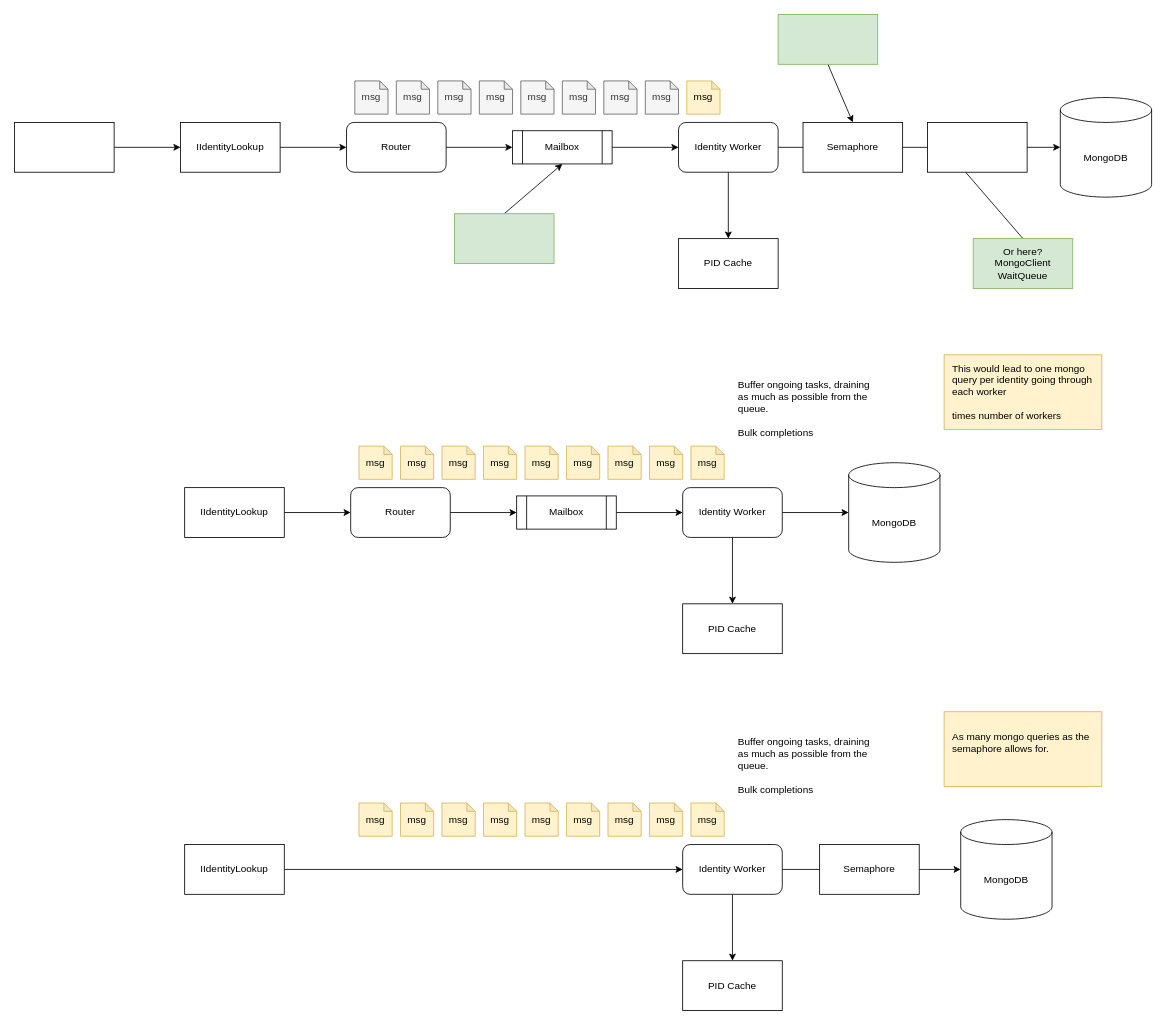
Some shapes in this 1166 by 1025 pixel diagram are drawn without their labels. The shapes that lost their labels are listed below. From the top down, each one's centre as x and y in pixels, then its label:
the point at 827,39: Or here, thread pool awaiting Semaphore
the point at 64,147: Cluster
the point at 977,147: Mongo Client
the point at 504,238: Buffer Here?
